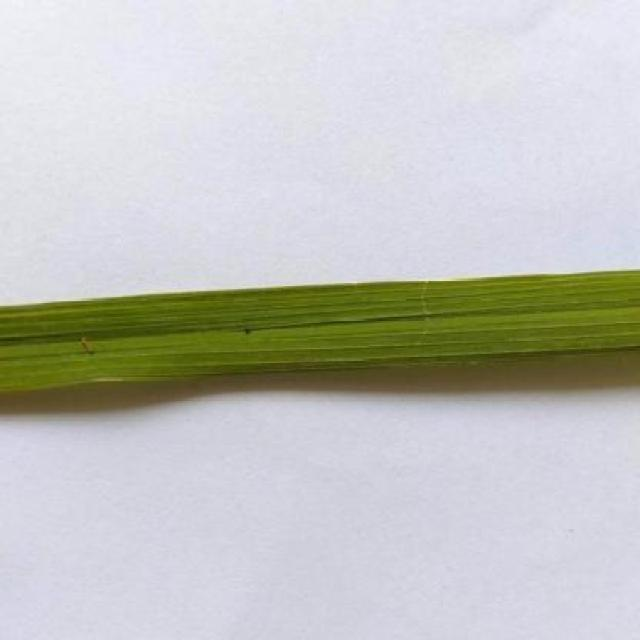Bacterial_Leaf_Blight: (78, 328, 98, 354)
Rice Tungro: (1, 273, 639, 369)
